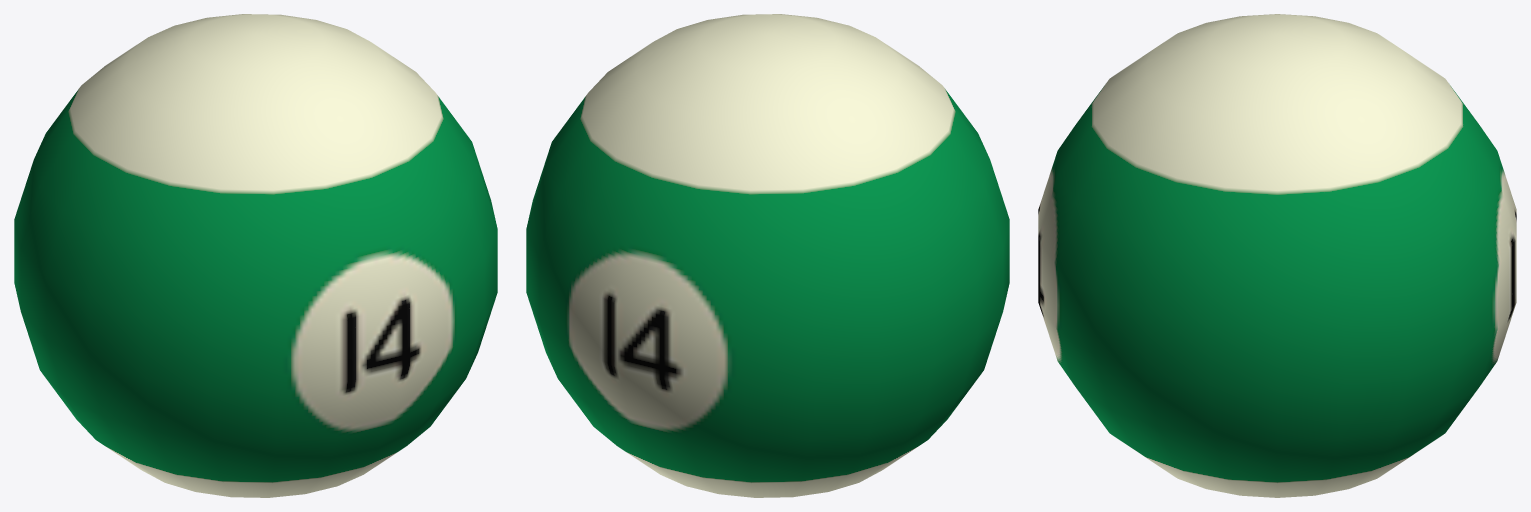
File: Ball_14.FBX
3 views of the same model, side by side, from view 1: azimuth 30°, elevation 25°; view 2: azimuth 150°, elevation 25°; view 3: azimuth 270°, elevation 25° (orthographic).
Visible parts, largest first — view 1: Ball_14; view 2: Ball_14; view 3: Ball_14.
Part boxes in pixels (x1,y1,x2,y2): Ball_14: (14, 14, 497, 497); Ball_14: (526, 14, 1009, 497); Ball_14: (1038, 14, 1516, 497).
Bounding box in the file's own units: 5.64 × 5.7 × 5.58.
